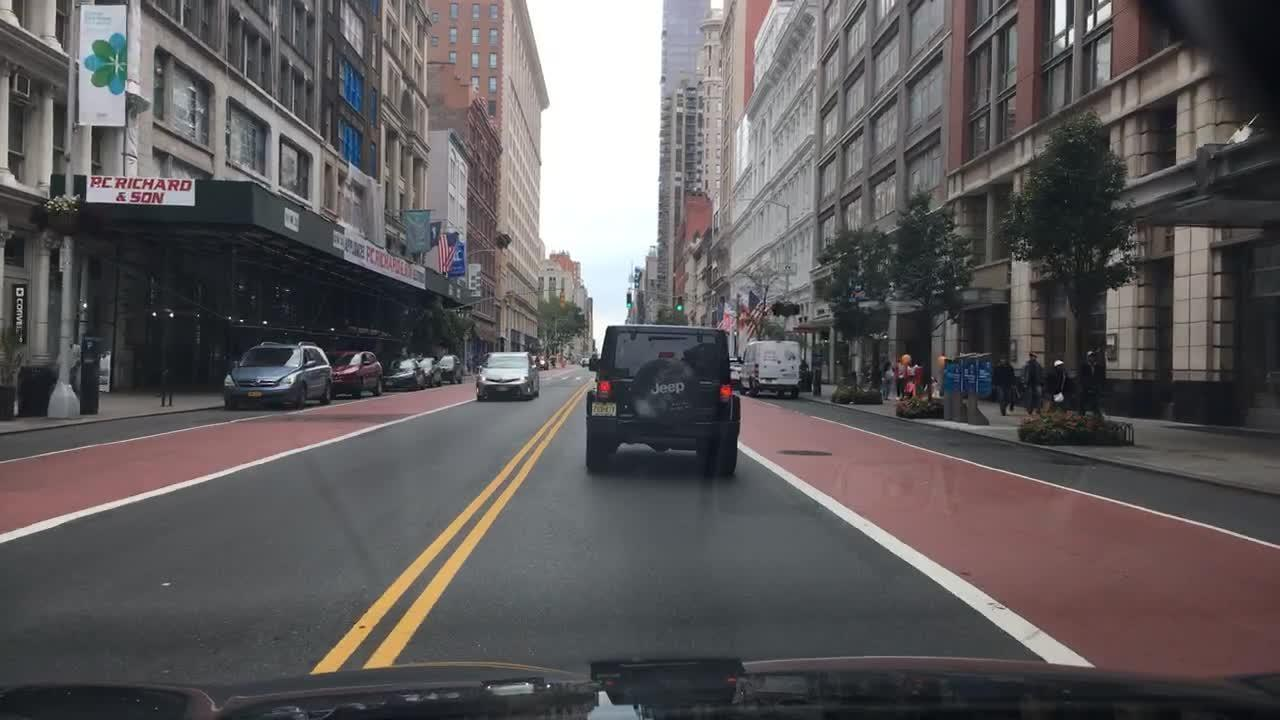jeep: (649, 378, 687, 398)
